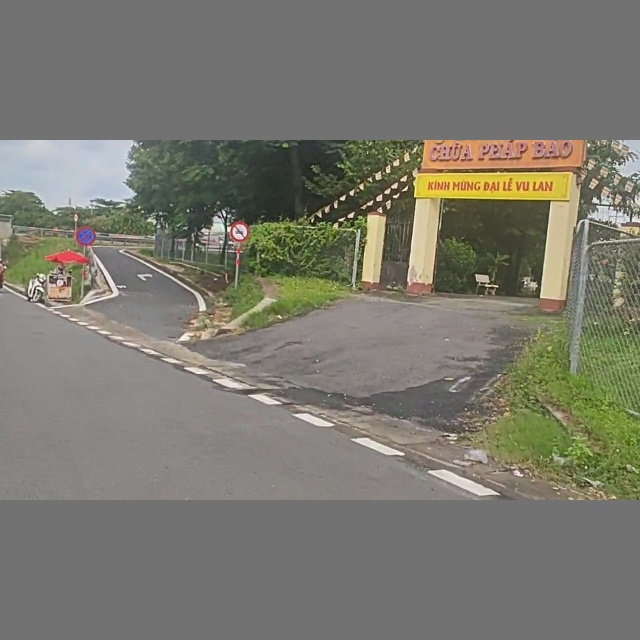P.103a: (230, 221, 251, 243)
P.130: (75, 226, 96, 247)
